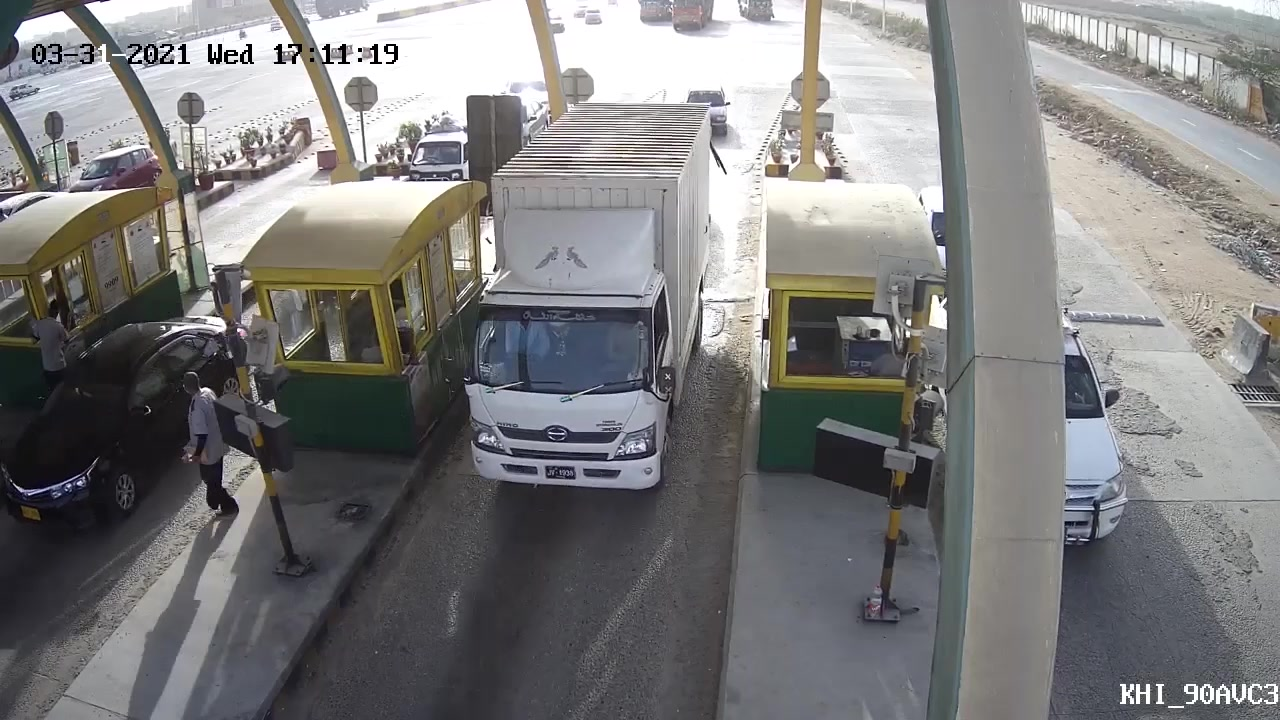F5: (443, 96, 724, 522)
